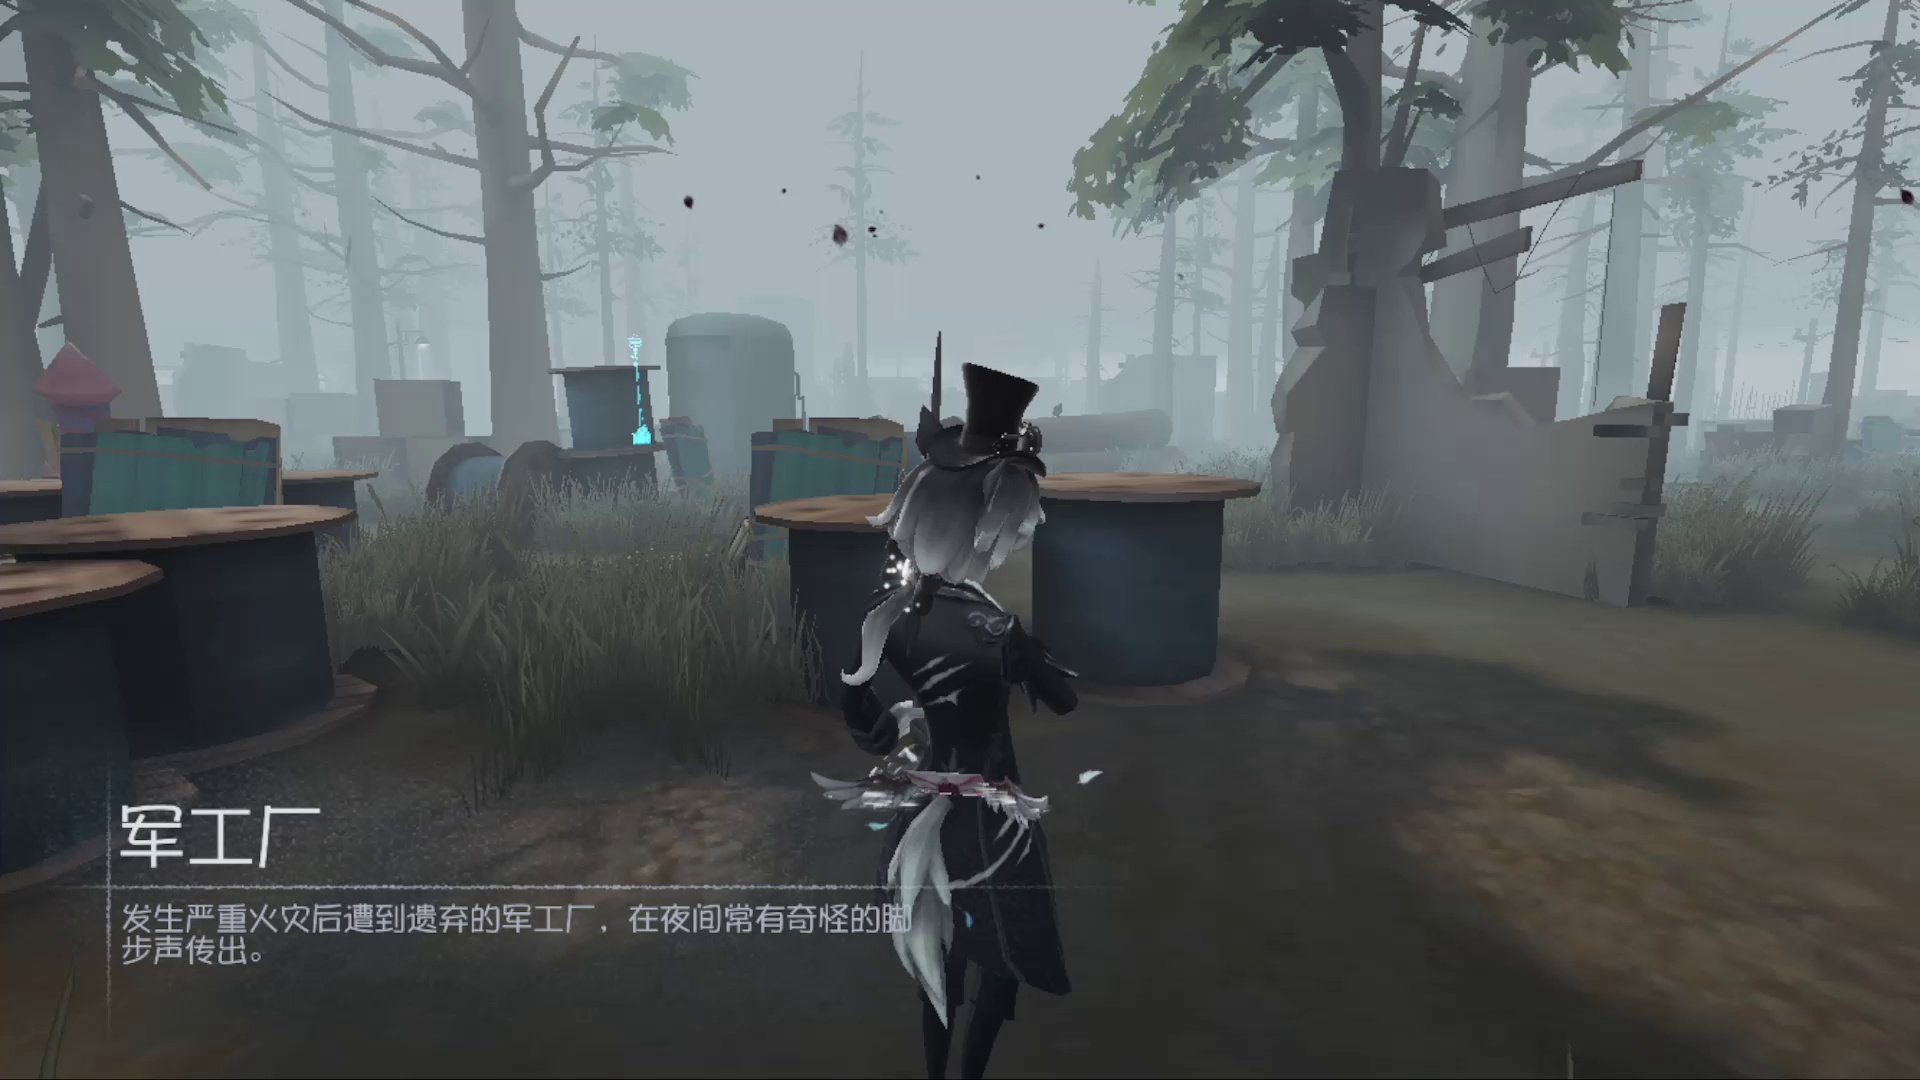密码机: (615, 331, 673, 469)
木板: (61, 415, 305, 549), (746, 411, 885, 535), (658, 405, 712, 520)
狂欢之椅: (38, 335, 131, 415)
